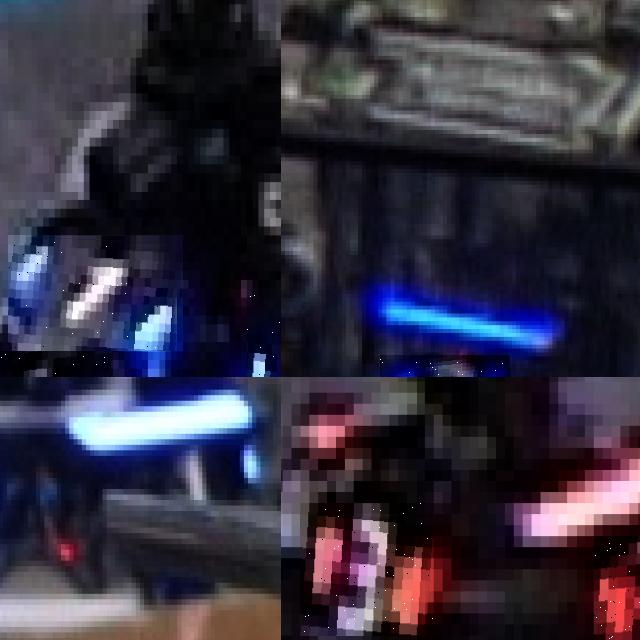B1: (8, 235, 183, 351)
B2: (380, 354, 509, 377)
R3: (300, 503, 434, 636), (593, 536, 640, 640)
